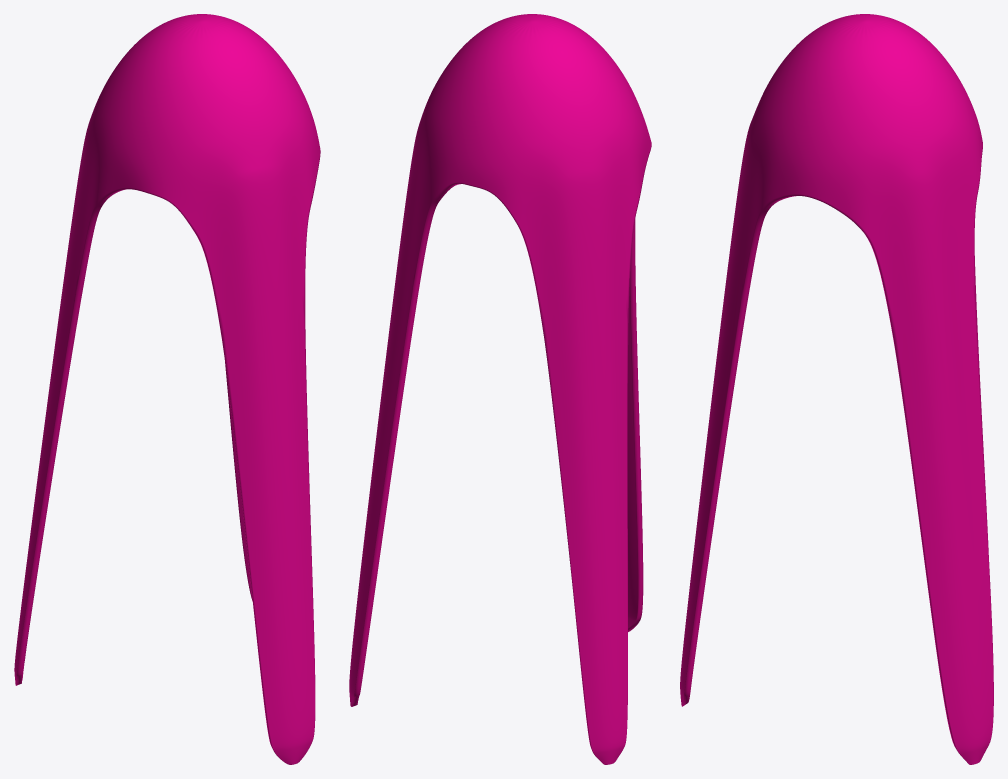
Rendered from Lampe.fbx.
3 renders of one model, left to right at view 1: azimuth 30°, elevation 25°; view 2: azimuth 150°, elevation 25°; view 3: azimuth 270°, elevation 25°, orthographic.
Parts seen in each view (by area): view 1: Sphere.001; view 2: Sphere.001; view 3: Sphere.001.
Part boxes in pixels (x1,y1,x2,y2): Sphere.001: (14, 14, 320, 764); Sphere.001: (349, 14, 651, 764); Sphere.001: (680, 14, 993, 764).
Size of the model in its own units: 97.94 by 230 by 95.85.
